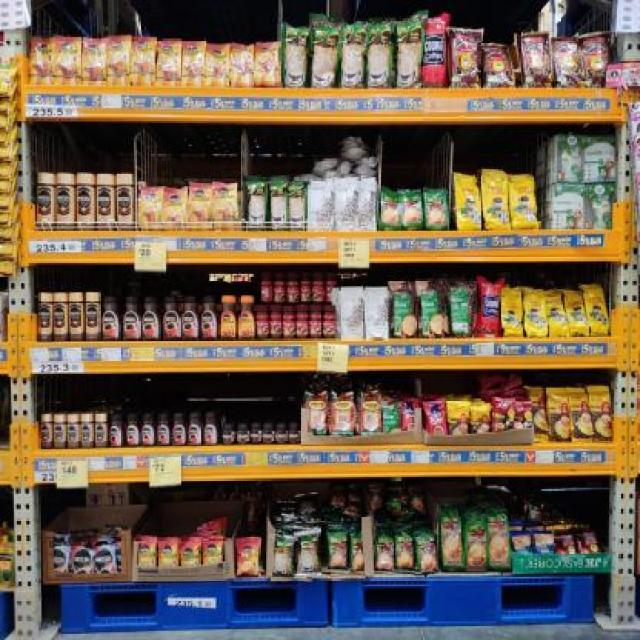Coffee: (55, 37, 81, 86), (30, 37, 56, 85), (107, 37, 131, 86), (131, 38, 155, 86), (255, 42, 281, 86), (82, 38, 106, 85), (156, 40, 180, 86), (138, 186, 164, 228), (231, 42, 255, 86), (213, 185, 237, 228), (182, 42, 205, 86), (189, 184, 212, 228), (205, 45, 229, 87), (38, 174, 54, 230), (57, 174, 73, 230), (77, 174, 93, 230), (97, 174, 113, 228), (164, 190, 186, 229), (236, 537, 258, 575), (163, 295, 181, 339), (117, 174, 131, 230), (220, 296, 238, 339), (102, 296, 120, 338), (183, 295, 200, 339), (238, 296, 255, 338), (124, 297, 141, 339), (143, 297, 160, 339), (70, 292, 84, 340), (202, 297, 218, 339), (38, 293, 52, 340), (54, 293, 68, 340), (94, 546, 117, 574), (86, 293, 99, 340), (138, 539, 156, 571), (71, 548, 93, 574), (171, 414, 187, 445), (158, 541, 176, 568), (110, 415, 124, 449), (52, 546, 70, 572), (179, 544, 200, 566), (203, 542, 223, 565), (204, 413, 218, 445), (188, 414, 202, 445), (156, 414, 170, 445), (142, 415, 156, 446), (127, 415, 140, 447), (81, 415, 93, 447), (67, 415, 79, 447), (53, 415, 65, 447), (96, 415, 107, 448), (41, 415, 52, 448), (237, 425, 249, 444), (289, 425, 300, 445), (222, 425, 234, 443), (262, 425, 274, 443), (250, 425, 261, 443), (277, 426, 288, 444)
